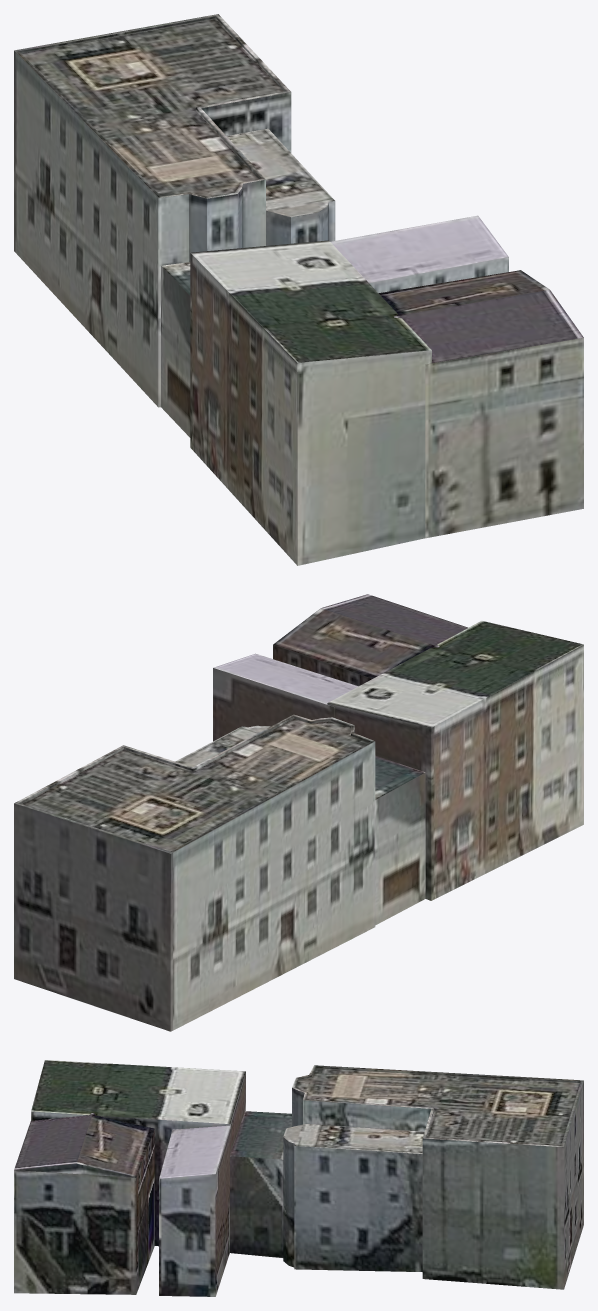
The model's file is Buildings_subset_51.dae.
3 renders of one model, top to bottom at view 1: azimuth 30°, elevation 25°; view 2: azimuth 150°, elevation 25°; view 3: azimuth 270°, elevation 25°, orthographic. The views are drawn at different scales.
Parts seen in each view (by area): view 1: Buildings_subset_51.dae (×14); view 2: Buildings_subset_51.dae (×7); view 3: Buildings_subset_51.dae (×13).
Part boxes in pixels (box(x1,y1,x2,y2)): Buildings_subset_51.dae (×14): box(14, 14, 583, 565); Buildings_subset_51.dae (×7): box(14, 594, 583, 1031); Buildings_subset_51.dae (×13): box(14, 1060, 583, 1296).
Bounding box in the file's own units: 56.57 × 130 × 39.57.
Materials: 1 (1 with a texture image).
